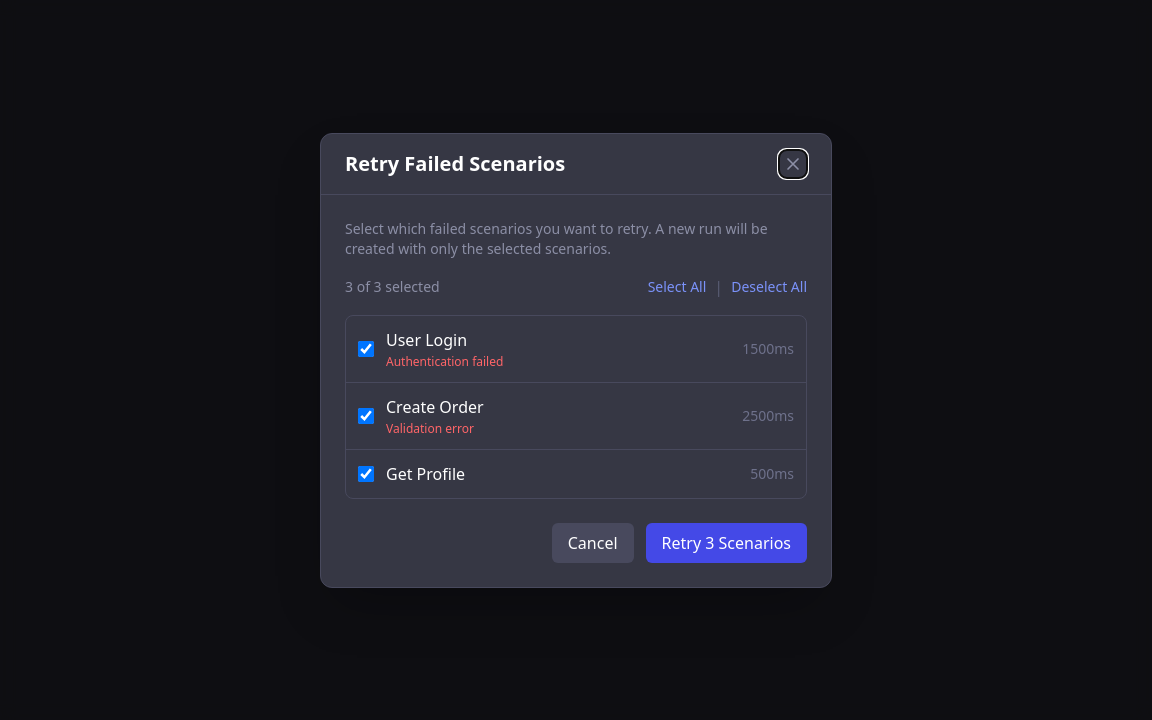
Test: RetryFailedDialog › selects all when clicking Select All
// First deselect all
Click the button "Deselect All" at (769, 286), box [731,274,807,298]
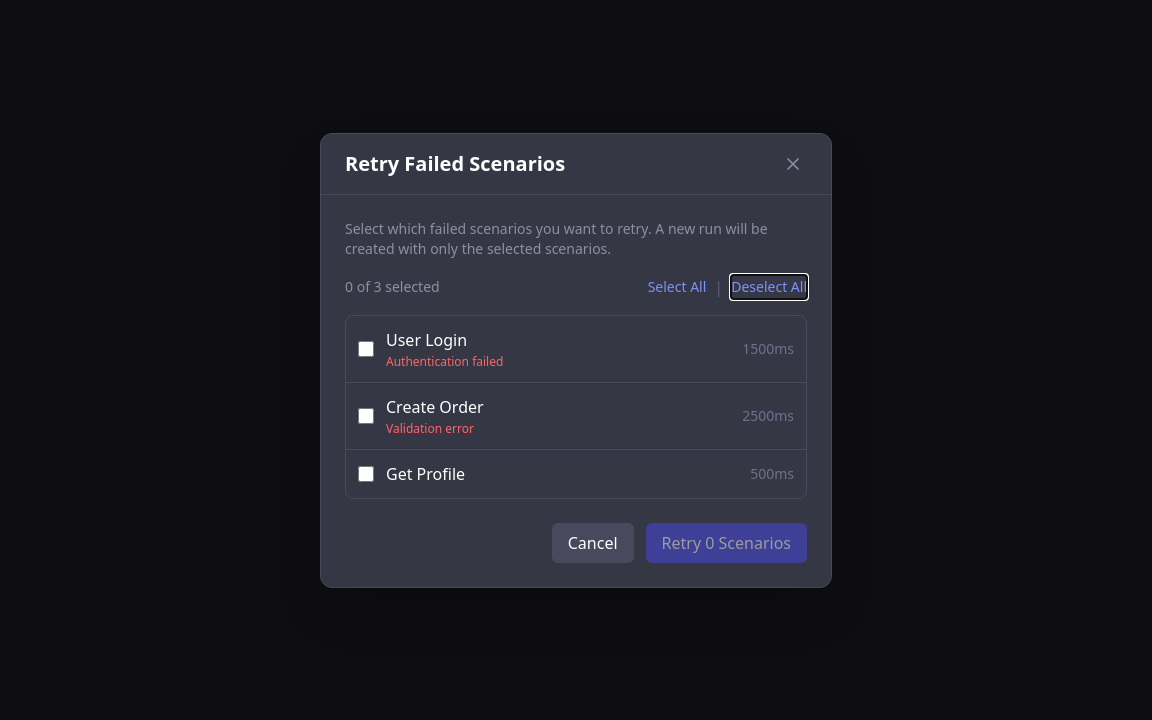
// Then select all
Click the button "Select All" at (677, 286), box [648,274,706,298]
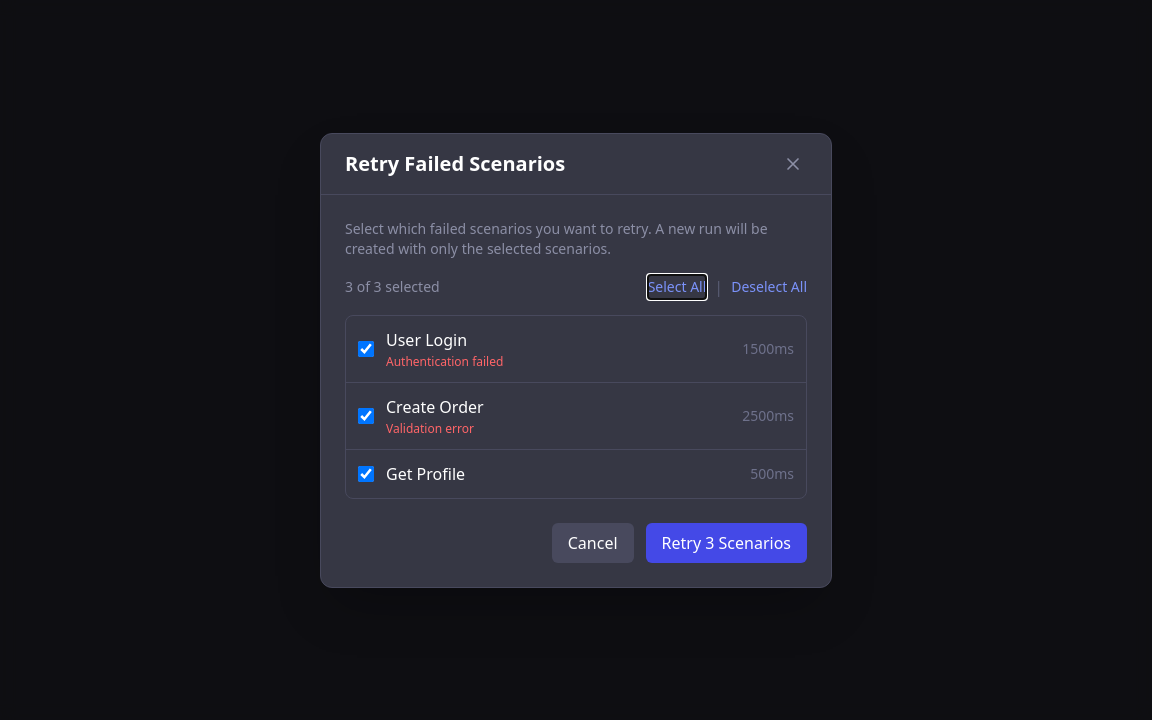
Expected: the checkbox labelled "User Login Authentication failed 1500ms" is checked, [358,340,374,356]
Expected: the checkbox labelled "Create Order Validation error 2500ms" is checked, [358,408,374,424]
Expected: the checkbox labelled "Get Profile 500ms" is checked, [358,466,374,482]
